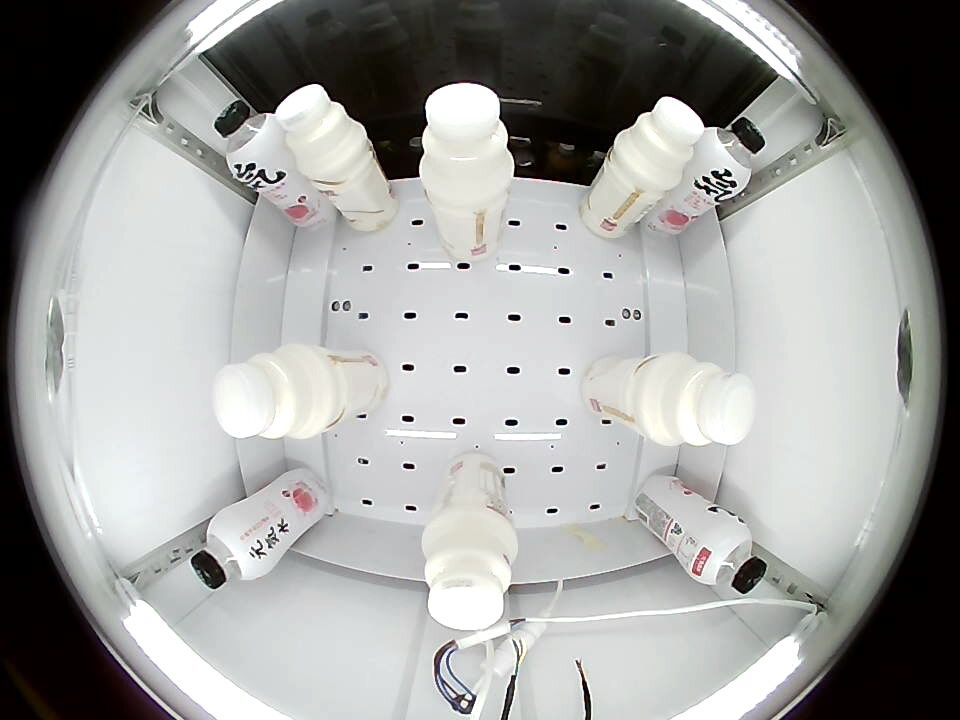yingyangkuaixian: (421, 509, 519, 630), (419, 83, 516, 203), (213, 344, 333, 440), (640, 353, 756, 448), (610, 96, 704, 191), (275, 84, 367, 176)
yuanqishui: (686, 516, 769, 594), (188, 512, 271, 590), (213, 100, 286, 178), (695, 116, 767, 193)
